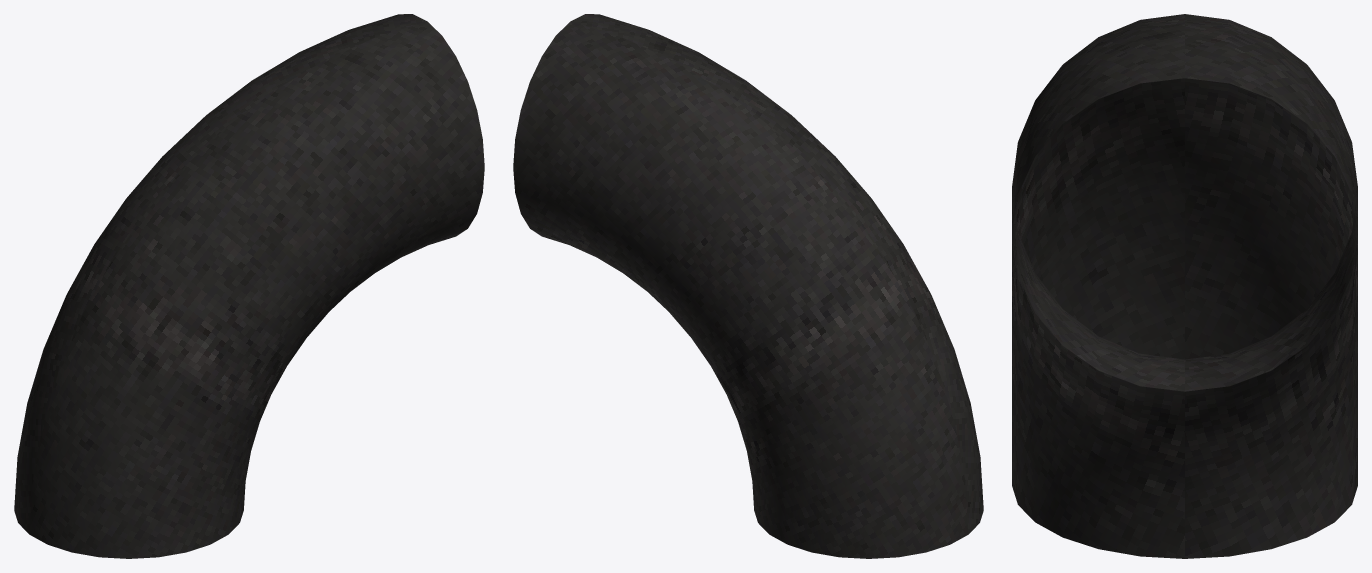
The model's file is pipe_1_corner.glb.
3 views of the same model, side by side, from view 1: azimuth 30°, elevation 25°; view 2: azimuth 150°, elevation 25°; view 3: azimuth 270°, elevation 25° (orthographic). The views are drawn at different scales.
Parts seen in each view (by area): view 1: pipe_1_corner; view 2: pipe_1_corner; view 3: pipe_1_corner.
Part boxes in pixels (x1,y1,x2,y2): pipe_1_corner: [14, 14, 484, 558]; pipe_1_corner: [513, 14, 983, 558]; pipe_1_corner: [1012, 14, 1357, 558].
Bounding box in the file's own units: 0.4 × 0.4 × 0.2.
Materials: 1 (1 with a texture image).
